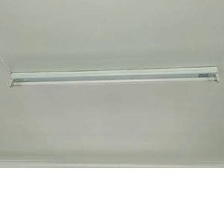light_bulb: (8, 72, 220, 89)
